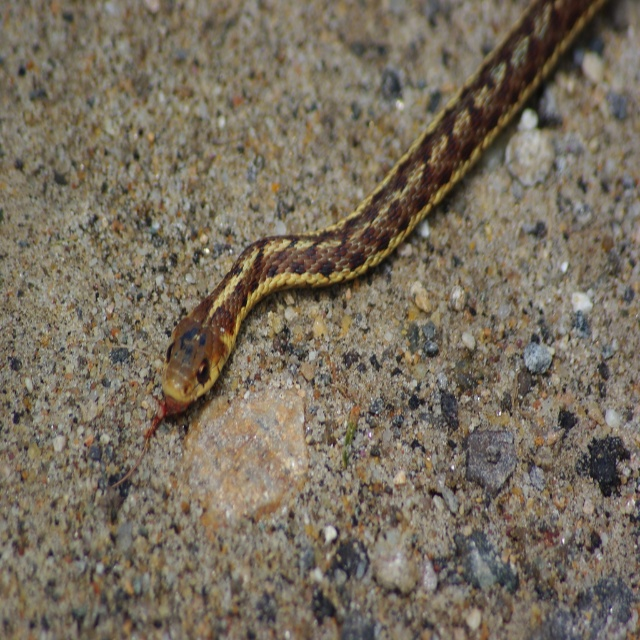Snake: (108, 0, 602, 494)
